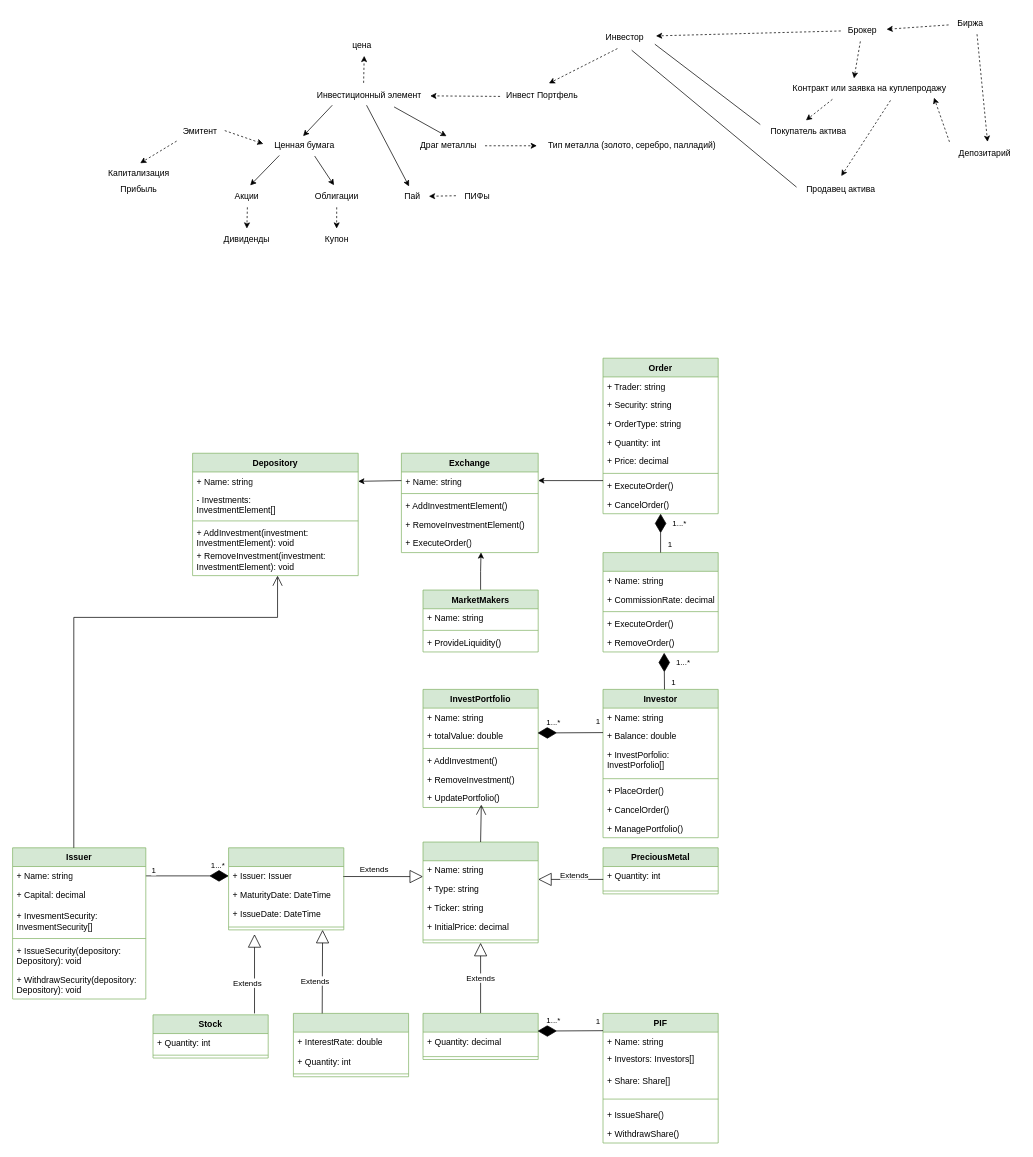
This 1033x1157 diagram has some shape labels left out. Here are the shapes that lost their labels. From the top down, the box of each, then its label:
(602, 552, 718, 652): Broker
(228, 847, 344, 930): InvestmentSecurity
(422, 841, 538, 943): InvestmentElement
(293, 1013, 409, 1077): Bond
(422, 1013, 538, 1059): Share
